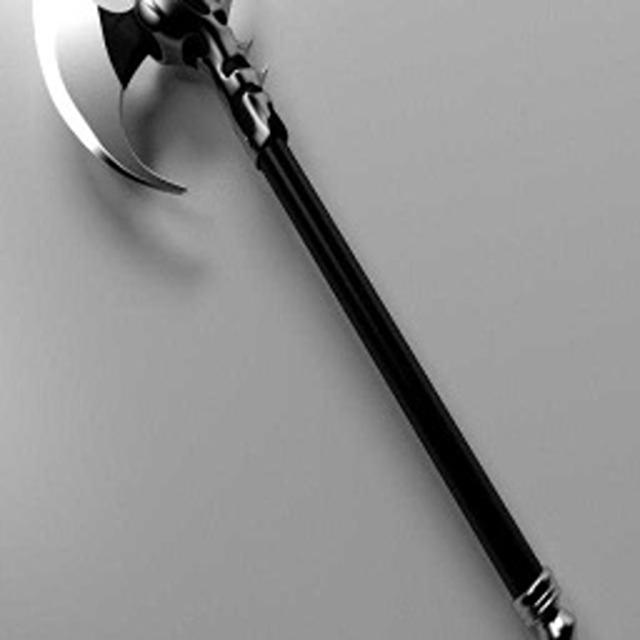ax: (22, 0, 586, 640)
